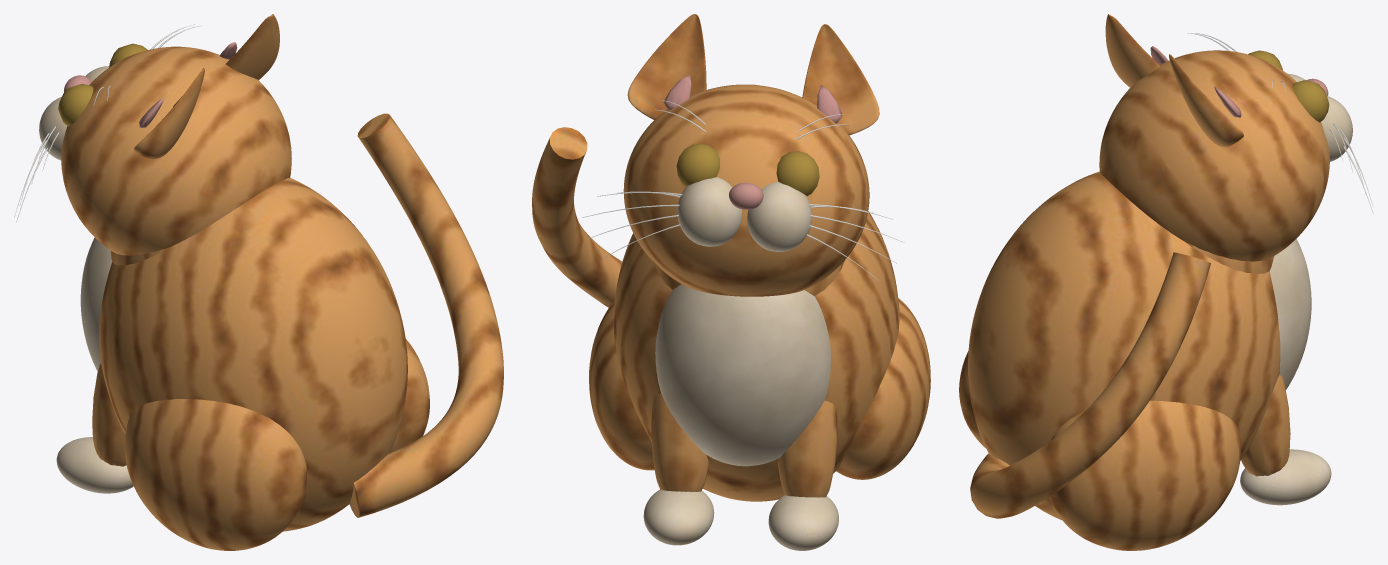
Rendered from ganzai.glb.
3 renders of one model, left to right at view 1: azimuth 30°, elevation 25°; view 2: azimuth 150°, elevation 25°; view 3: azimuth 270°, elevation 25°, orthographic.
Parts seen in each view (by area): view 1: Ganzai_Body, Ganzai_Head, Ganzai_Haunch_L, RealCat_TailMesh, Ganzai_Paw_L, Ganzai_ChestBib, Ganzai_Haunch_R, Ganzai_Leg_L, Ganzai_Ear_L, Ganzai_Ear_R, Ganzai_Cheek_L, Ganzai_Eye_L (+1 smaller); view 2: Ganzai_Head, Ganzai_ChestBib, Ganzai_Body, Ganzai_Haunch_L, RealCat_TailMesh, Ganzai_Haunch_R, Ganzai_Ear_L, Ganzai_Ear_R, Ganzai_Leg_L, Ganzai_Leg_R, Ganzai_Cheek_L, Ganzai_Cheek_R (+9 smaller); view 3: Ganzai_Body, Ganzai_Head, Ganzai_Haunch_R, RealCat_TailMesh, Ganzai_ChestBib, Ganzai_Paw_R, Ganzai_Leg_R, Ganzai_Ear_R, Ganzai_Ear_L, Ganzai_Cheek_R, Ganzai_Eye_R, Ganzai_Haunch_L (+2 smaller).
Boxes of the visible parts, x1,y1,x2,y2 form: Ganzai_Body: (99, 178, 407, 531); Ganzai_Head: (61, 46, 291, 255); Ganzai_Haunch_L: (124, 399, 306, 550); RealCat_TailMesh: (349, 113, 503, 517); Ganzai_Paw_L: (56, 437, 133, 493); Ganzai_ChestBib: (80, 237, 112, 371); Ganzai_Haunch_R: (389, 338, 429, 453); Ganzai_Leg_L: (92, 363, 126, 466); Ganzai_Ear_L: (134, 68, 204, 159); Ganzai_Ear_R: (226, 14, 279, 79); Ganzai_Cheek_L: (39, 97, 67, 160); Ganzai_Eye_L: (58, 83, 93, 126); Ganzai_Head: (623, 84, 869, 296); Ganzai_ChestBib: (655, 284, 830, 466); Ganzai_Body: (614, 211, 899, 501); Ganzai_Haunch_L: (836, 298, 930, 479); RealCat_TailMesh: (532, 127, 622, 307); Ganzai_Haunch_R: (589, 300, 654, 470); Ganzai_Ear_L: (802, 24, 879, 135); Ganzai_Ear_R: (627, 14, 706, 119); Ganzai_Leg_L: (778, 400, 837, 497); Ganzai_Leg_R: (651, 393, 708, 491); Ganzai_Cheek_L: (747, 182, 812, 251); Ganzai_Cheek_R: (677, 177, 741, 246); Ganzai_Body: (968, 171, 1280, 519); Ganzai_Head: (1099, 50, 1329, 261); Ganzai_Haunch_R: (1049, 400, 1241, 550); RealCat_TailMesh: (970, 252, 1210, 518); Ganzai_ChestBib: (1269, 239, 1311, 389); Ganzai_Paw_R: (1240, 449, 1331, 505); Ganzai_Leg_R: (1241, 375, 1290, 476); Ganzai_Ear_R: (1169, 54, 1243, 147); Ganzai_Ear_L: (1105, 14, 1160, 87); Ganzai_Cheek_R: (1321, 96, 1352, 161); Ganzai_Eye_R: (1292, 80, 1329, 122); Ganzai_Haunch_L: (959, 351, 985, 447).
Size of the model in its own units: 0.5439 by 0.6086 by 0.4756.
Materials: 4 (1 with a texture image).
